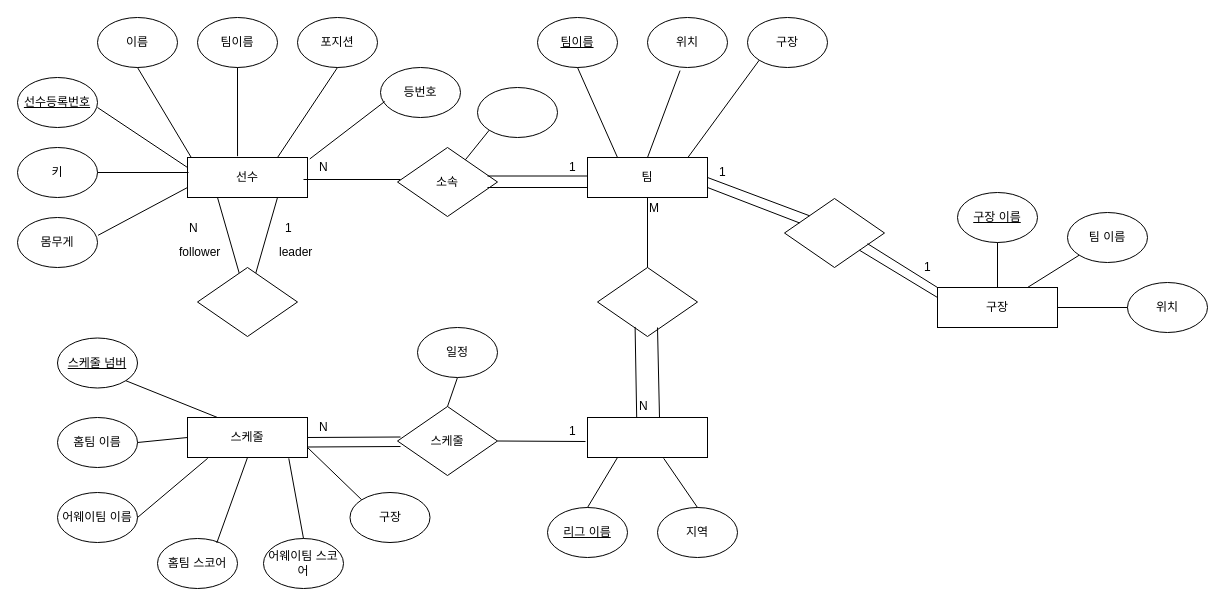
Image size: 1225x606. Some labels were removed from this diagram. Each missing label, with the centre of its shape:
계약 날짜: the point at 517,112
관리: the point at 834,233
리그: the point at 647,437
리드: the point at 247,301
참여: the point at 647,301
